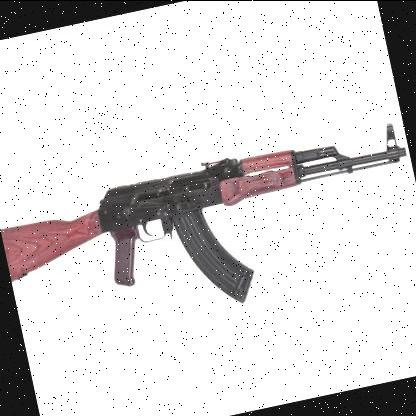rifle: (0, 86, 416, 355)
